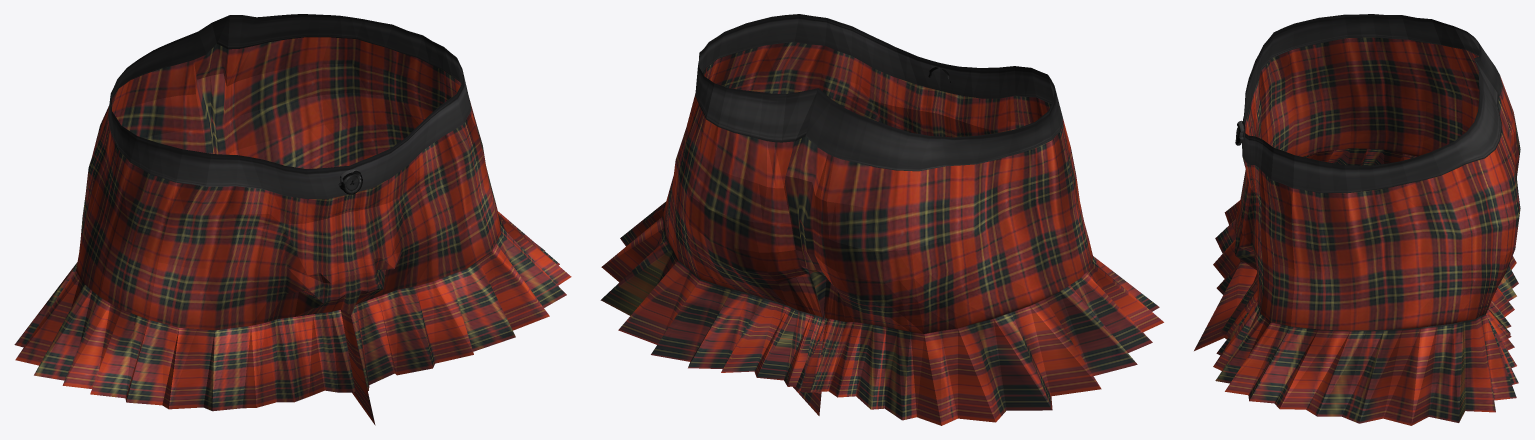
Rendered from mhw_frankyaye_mini_skirt_02.glb.
The picture shows the model from 3 angles, left to right: view 1: azimuth 30°, elevation 25°; view 2: azimuth 150°, elevation 25°; view 3: azimuth 270°, elevation 25°; orthographic projection. The views are drawn at different scales.
Visible parts, largest first — view 1: mhw_frankyaye_mini_skirt_02; view 2: mhw_frankyaye_mini_skirt_02; view 3: mhw_frankyaye_mini_skirt_02.
Boxes of the visible parts, x1,y1,x2,y2 form: mhw_frankyaye_mini_skirt_02: (14,14,571,425); mhw_frankyaye_mini_skirt_02: (600,14,1163,425); mhw_frankyaye_mini_skirt_02: (1194,14,1520,425).
Size of the model in its own units: 0.5164 by 0.3136 by 0.2968.
Materials: 1 (1 with a texture image).
